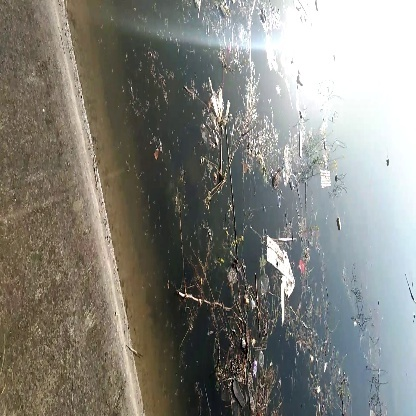plastic-bag: (262, 235, 300, 307)
